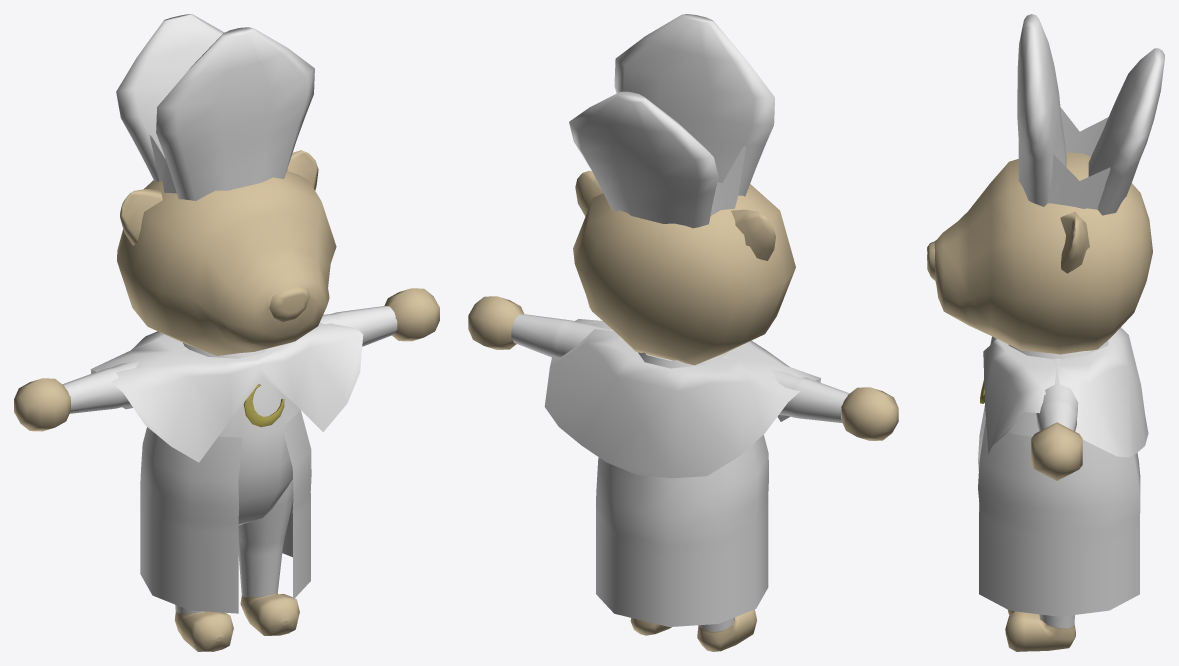
File: Bear_Pope.fbx
3 views of the same model, side by side, from view 1: azimuth 30°, elevation 25°; view 2: azimuth 150°, elevation 25°; view 3: azimuth 270°, elevation 25° (orthographic).
Parts seen in each view (by area): view 1: Pope_Bear_Geo; view 2: Pope_Bear_Geo; view 3: Pope_Bear_Geo.
Part boxes in pixels (x1,y1,x2,y2): Pope_Bear_Geo: (14, 14, 439, 651); Pope_Bear_Geo: (468, 14, 898, 651); Pope_Bear_Geo: (927, 14, 1164, 651).
Bounding box in the file's own units: 7.05 × 9.71 × 3.44.
